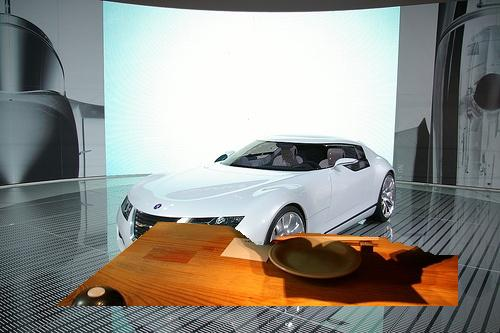tampered: (56, 223, 458, 306)
